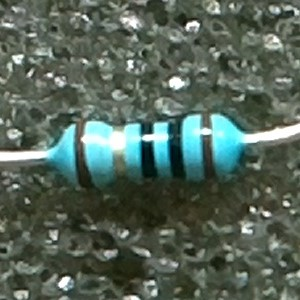black_band: (165, 113, 192, 183), (139, 116, 160, 182)
brown_band: (72, 118, 97, 190), (199, 109, 222, 184)
gold_band: (108, 121, 131, 184)
